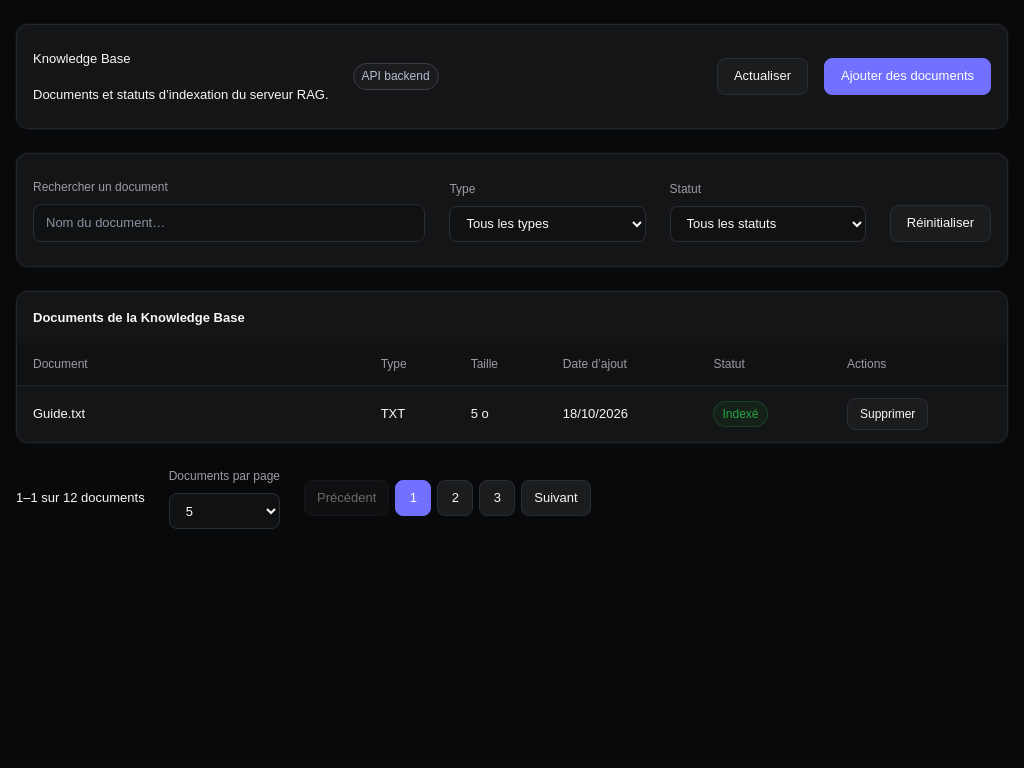
Test: connected Knowledge Base › uses server totals and does not filter server results locally
The width and height of the screenshot is (1024, 768).
Expected: the text "1–1 sur 12 documents" is shown, [16,488,145,508]
Click the button "Suivant" at (556, 498), box [521,480,591,516]
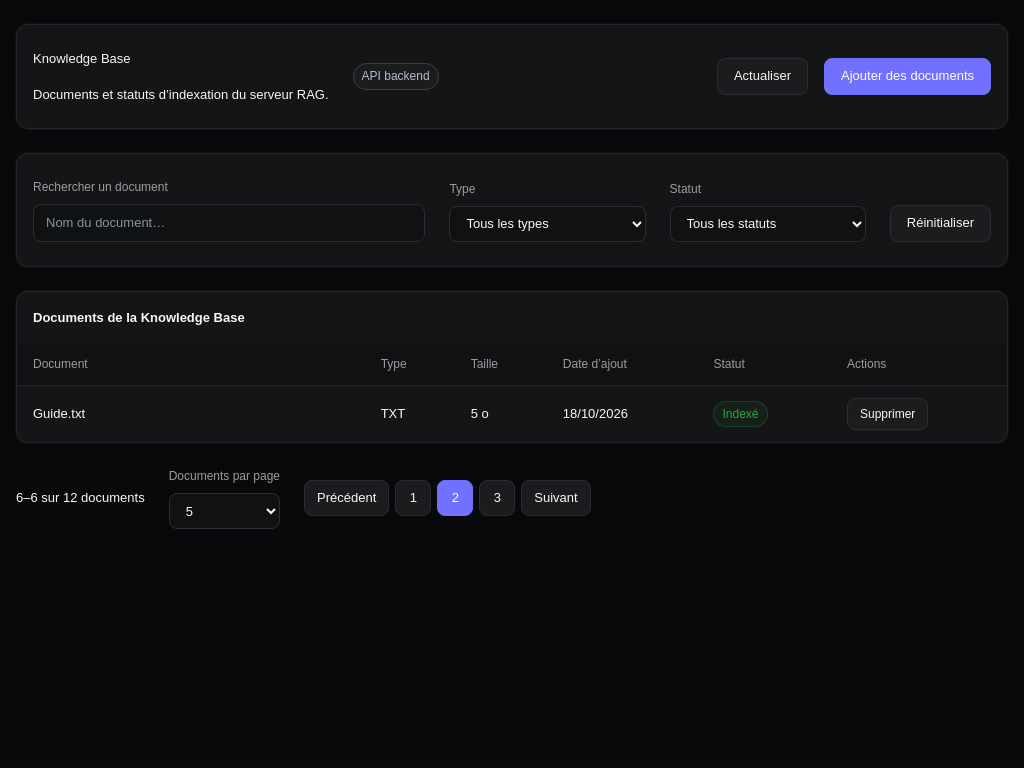
Result: the text "6–6 sur 12 documents" is shown at [16,488,145,508]
Type "server-search" into the field labelled "Rechercher un document" at (229, 223), box [33,204,425,242]
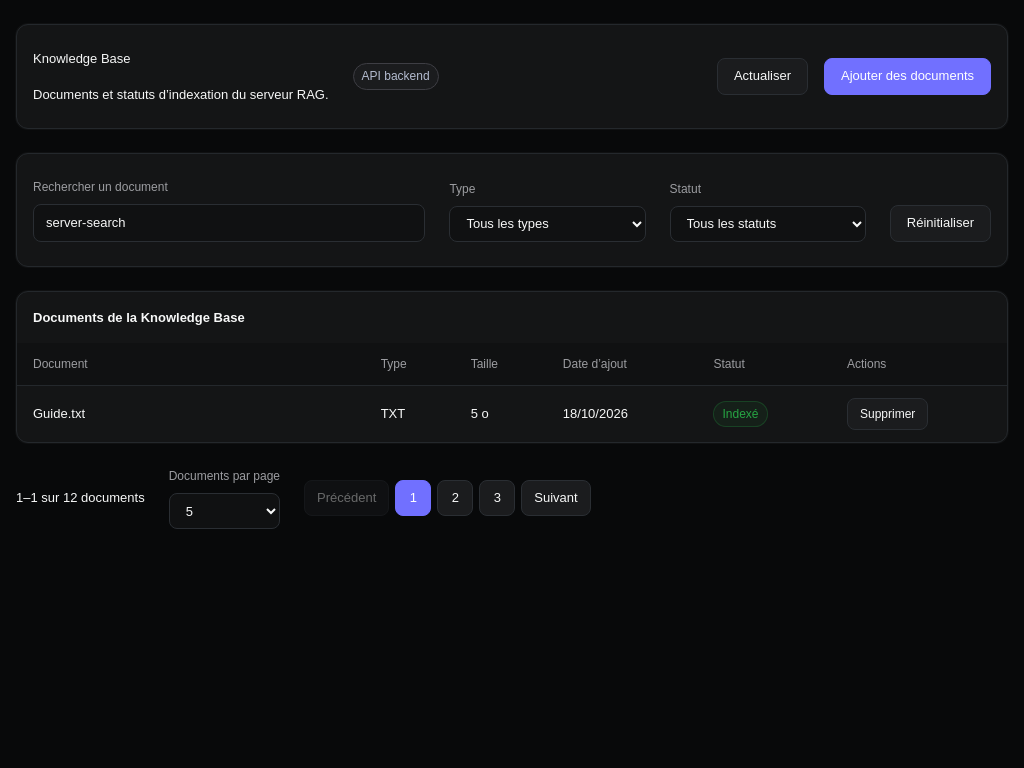
Expected: the text "Guide.txt" is shown, [33,406,85,421]
Result: the text "1–1 sur 12 documents" is shown at [16,488,145,508]
